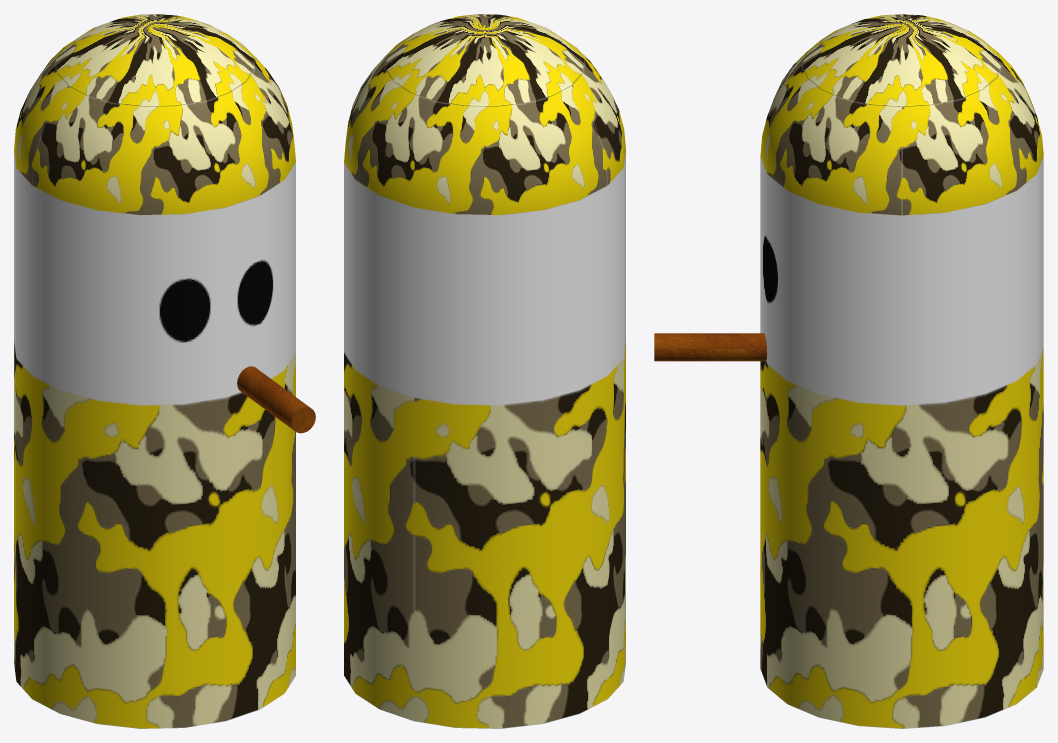
Rendered from soldieryellow.fbx.
The picture shows the model from 3 angles, left to right: view 1: azimuth 30°, elevation 25°; view 2: azimuth 150°, elevation 25°; view 3: azimuth 270°, elevation 25°; orthographic projection.
Parts seen in each view (by area): view 1: polySurface1, pCylinder2; view 2: polySurface1; view 3: polySurface1, pCylinder2.
Part boxes in pixels (bbox=[...]): polySurface1: bbox=[14, 14, 295, 728]; pCylinder2: bbox=[237, 366, 315, 433]; polySurface1: bbox=[344, 14, 625, 728]; polySurface1: bbox=[760, 14, 1043, 728]; pCylinder2: bbox=[654, 333, 767, 361].
Size of the model in its own units: 2 by 5 by 2.75.
Materials: 3 (3 with a texture image).
